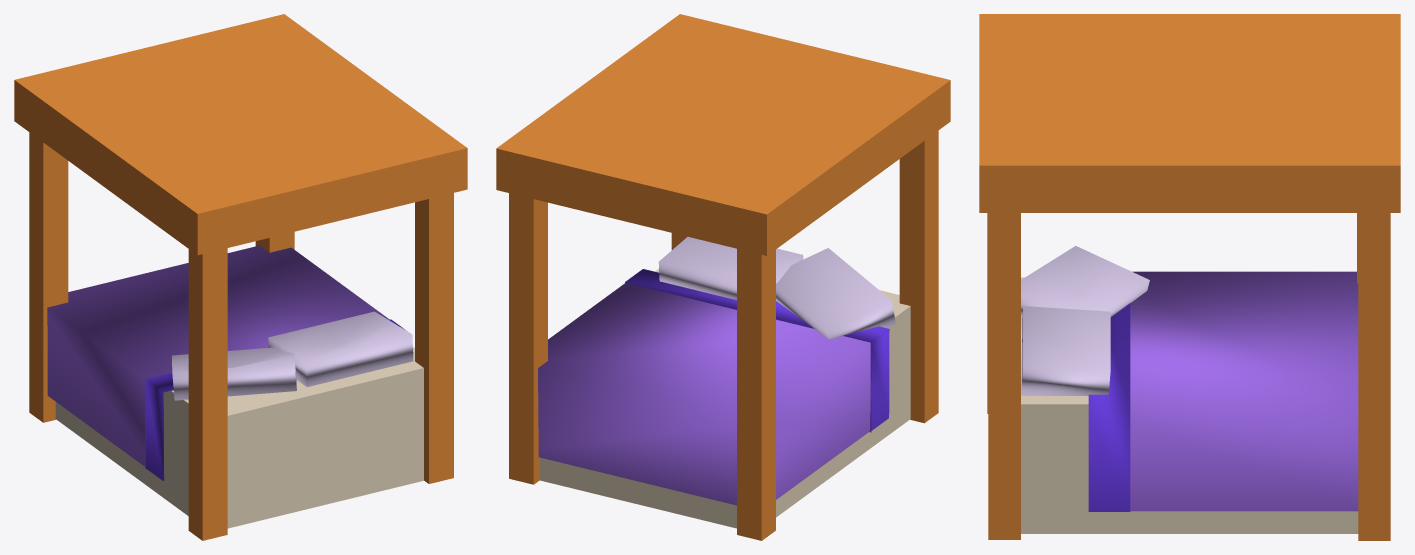
File: post_bed.glb
3 renders of one model, left to right at view 1: azimuth 30°, elevation 25°; view 2: azimuth 150°, elevation 25°; view 3: azimuth 270°, elevation 25°, orthographic. The views are drawn at different scales.
Parts seen in each view (by area): view 1: Cube.005, Cube, Plane, Cube.002, Cube.001, Cube.004, Cube.006, Cube.007, Plane.001, Cube.003; view 2: Cube.005, Plane, Cube.004, Cube.003, Cube.002, Cube, Cube.007, Cube.006, Plane.001; view 3: Cube.005, Plane, Cube, Cube.003, Cube.001, Cube.006, Plane.001, Cube.007.
Part boxes in pixels (x1,y1,x2,y2): Cube.005: (14, 14, 467, 255); Cube: (55, 347, 423, 528); Plane: (47, 245, 389, 480); Cube.002: (188, 248, 227, 540); Cube.001: (415, 193, 453, 483); Cube.004: (29, 132, 68, 422); Cube.006: (268, 311, 413, 386); Cube.007: (172, 347, 296, 400); Plane.001: (145, 319, 404, 480); Cube.003: (255, 232, 294, 252); Cube.005: (496, 14, 950, 255); Plane: (538, 283, 870, 505); Cube.004: (737, 249, 775, 540); Cube.003: (509, 193, 547, 484); Cube.002: (899, 130, 938, 423); Cube: (540, 269, 910, 528); Cube.007: (776, 248, 895, 339); Cube.006: (658, 237, 803, 299); Plane.001: (625, 269, 889, 432); Cube.005: (979, 14, 1400, 212); Plane: (1130, 271, 1358, 511); Cube: (1021, 277, 1358, 533); Cube.003: (1358, 213, 1390, 540); Cube.001: (988, 213, 1020, 539); Cube.006: (1021, 306, 1110, 395); Plane.001: (1088, 303, 1130, 511); Cube.007: (1021, 246, 1149, 326).
Size of the model in its own units: 1.15 by 1.35 by 1.35.
